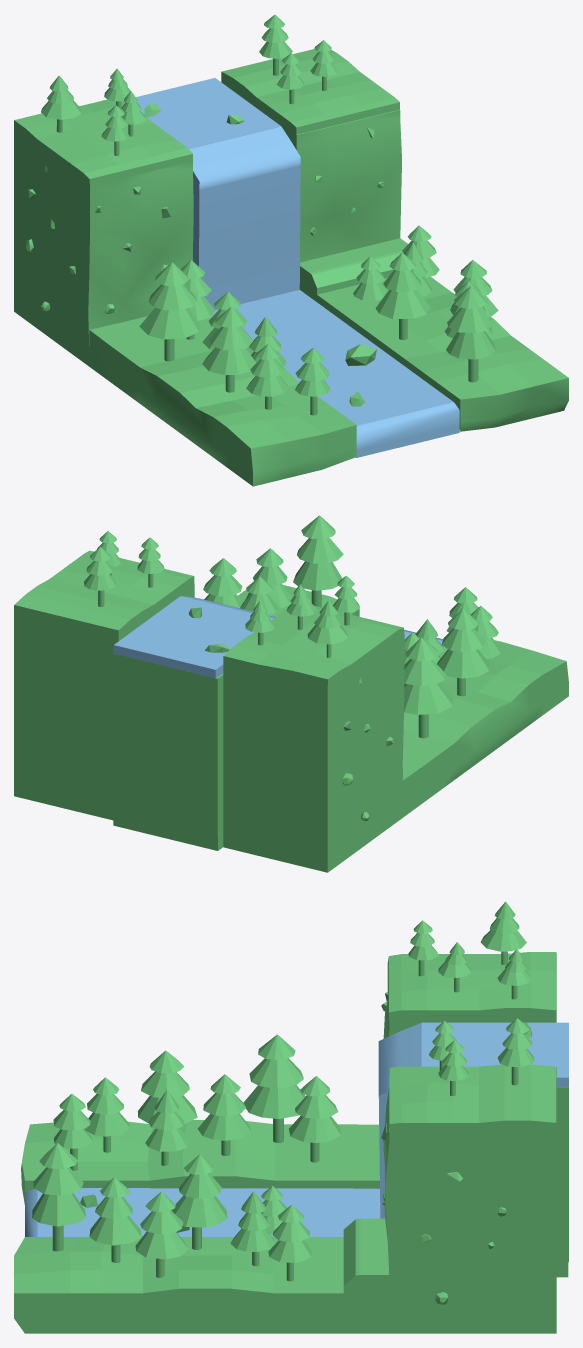
The model's file is Low_Poly_Waterfall_Scene.glb.
3 views of the same model, one above another, from view 1: azimuth 30°, elevation 25°; view 2: azimuth 150°, elevation 25°; view 3: azimuth 270°, elevation 25° (orthographic). The views are drawn at different scales.
Parts seen in each view (by area): view 1: unnamed (×13); view 2: unnamed (×18); view 3: unnamed (×32).
Part boxes in pixels (x1,y1,x2,y2): unnamed (×13): (14,49,568,486); unnamed (×18): (14,515,568,872); unnamed (×32): (14,930,568,1333).
Bounding box in the file's own units: 8.56 × 6.36 × 11.47.
